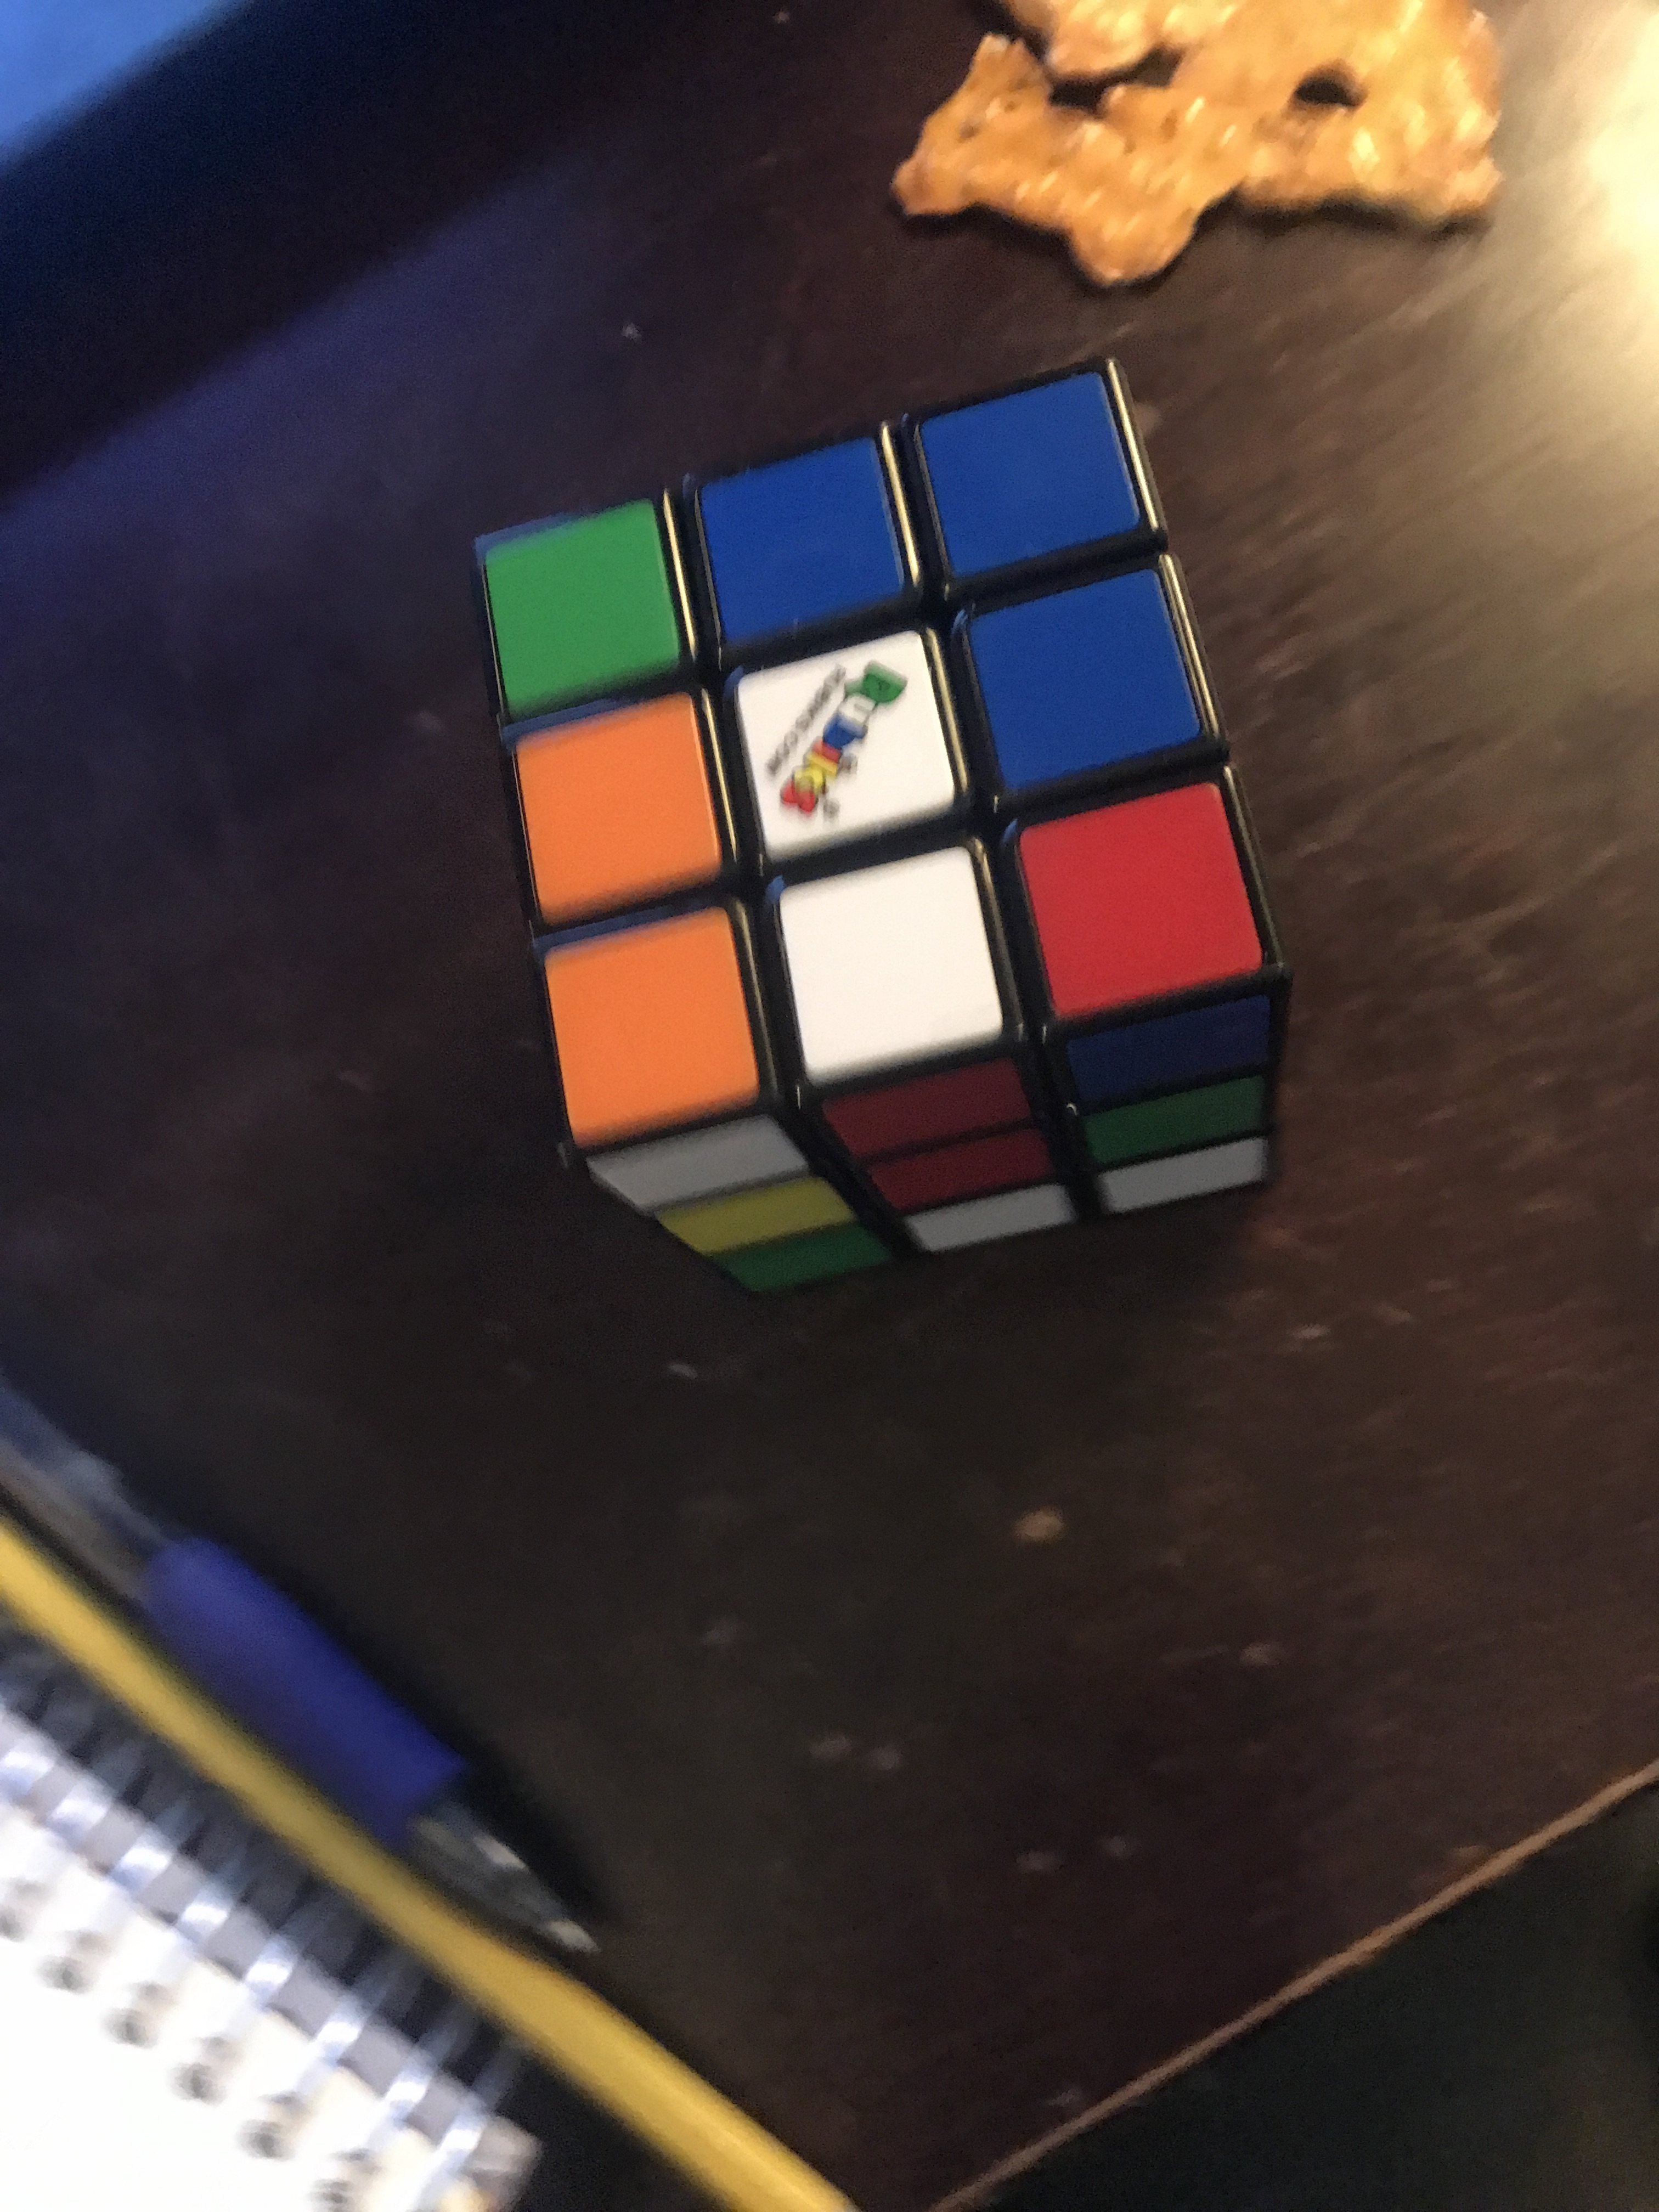rubiks: (455, 340, 1321, 1325)
